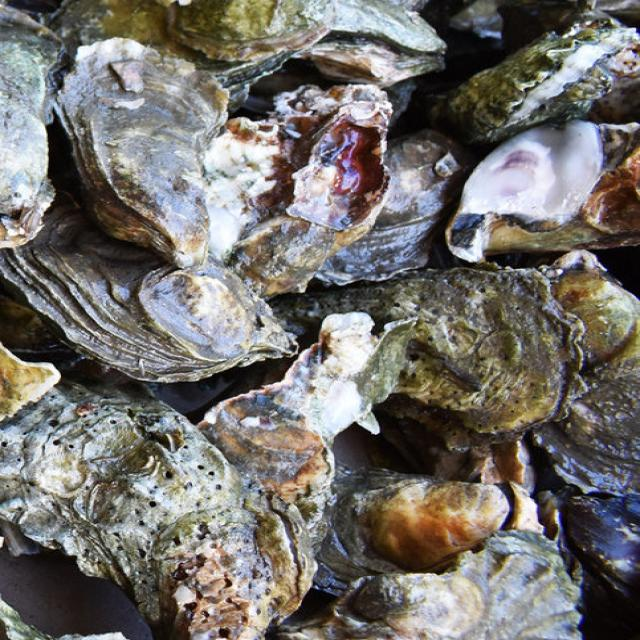Oyster-Closed: (435, 18, 640, 143), (302, 0, 450, 88), (141, 264, 254, 361), (568, 495, 640, 602)
Oyster-Indeterminate: (0, 381, 315, 640), (0, 176, 297, 383), (270, 270, 589, 449), (54, 39, 233, 268), (209, 84, 390, 296), (45, 0, 337, 108), (315, 464, 541, 596), (319, 130, 482, 281), (331, 551, 584, 640), (537, 330, 640, 496), (0, 6, 66, 248), (544, 252, 639, 363)
